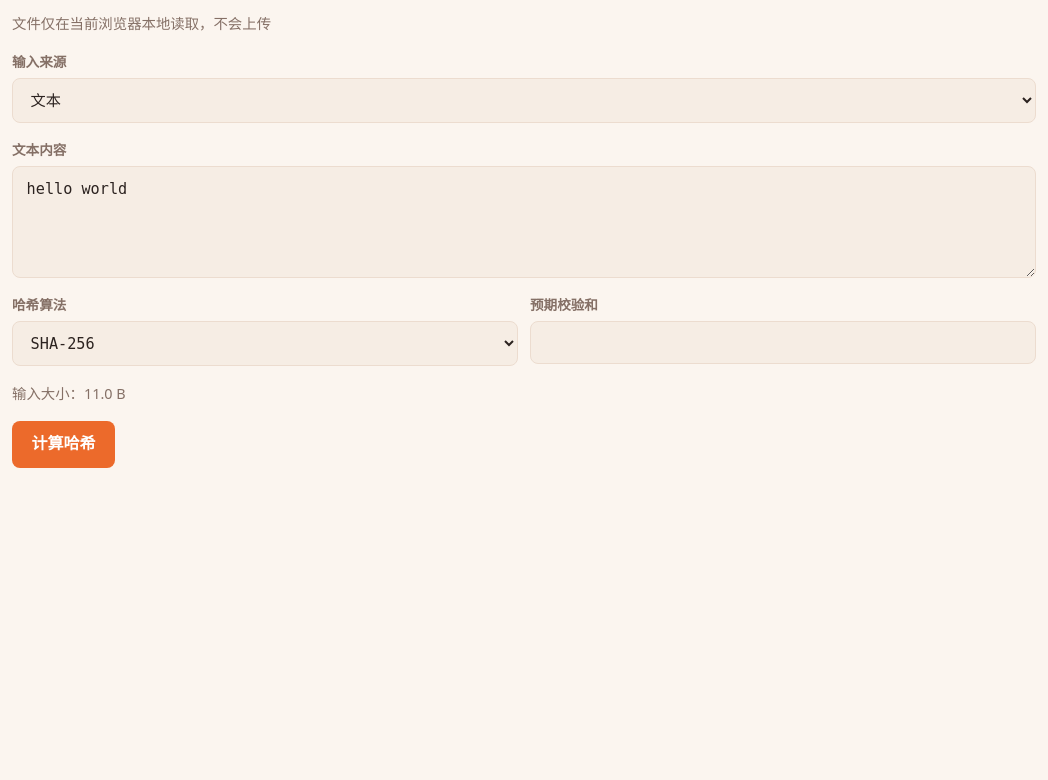
Scenario: renders a lowercase digest, supports copying it, and announces copy status
Click the button "计算哈希" at point(63, 444), box [12,421,115,468]
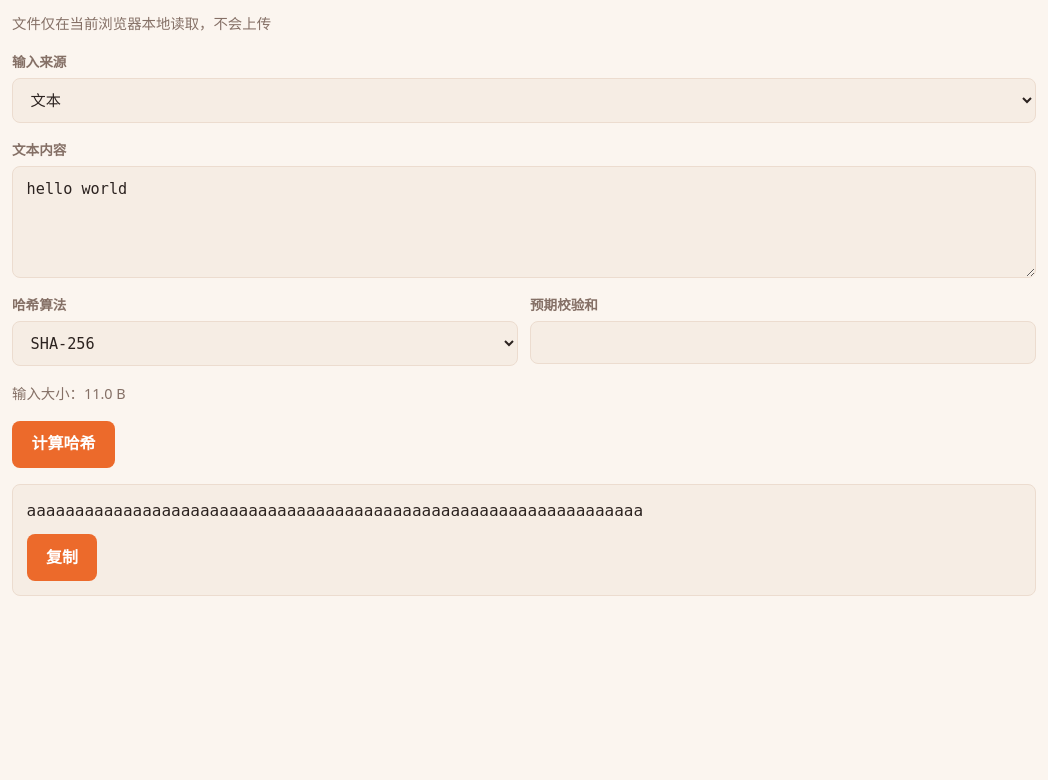
Click the button with aria-label "复制哈希结果" at point(62, 558), box [27,534,97,581]
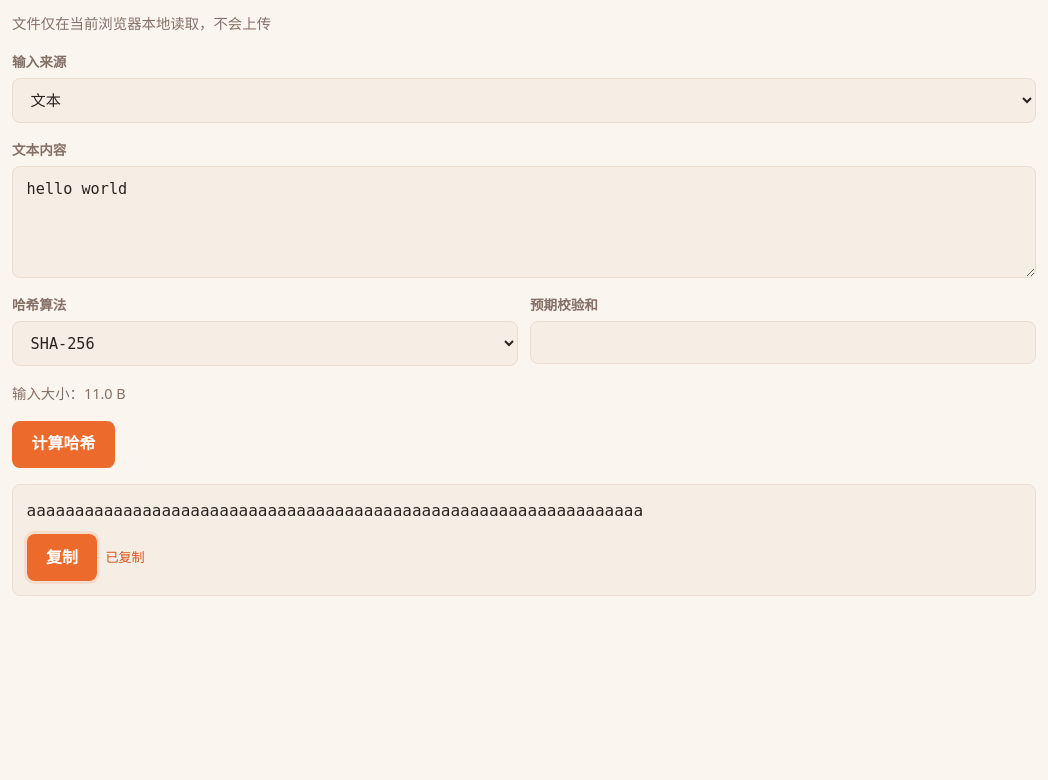
Now the message reads "已复制", box [105,548,145,566]
